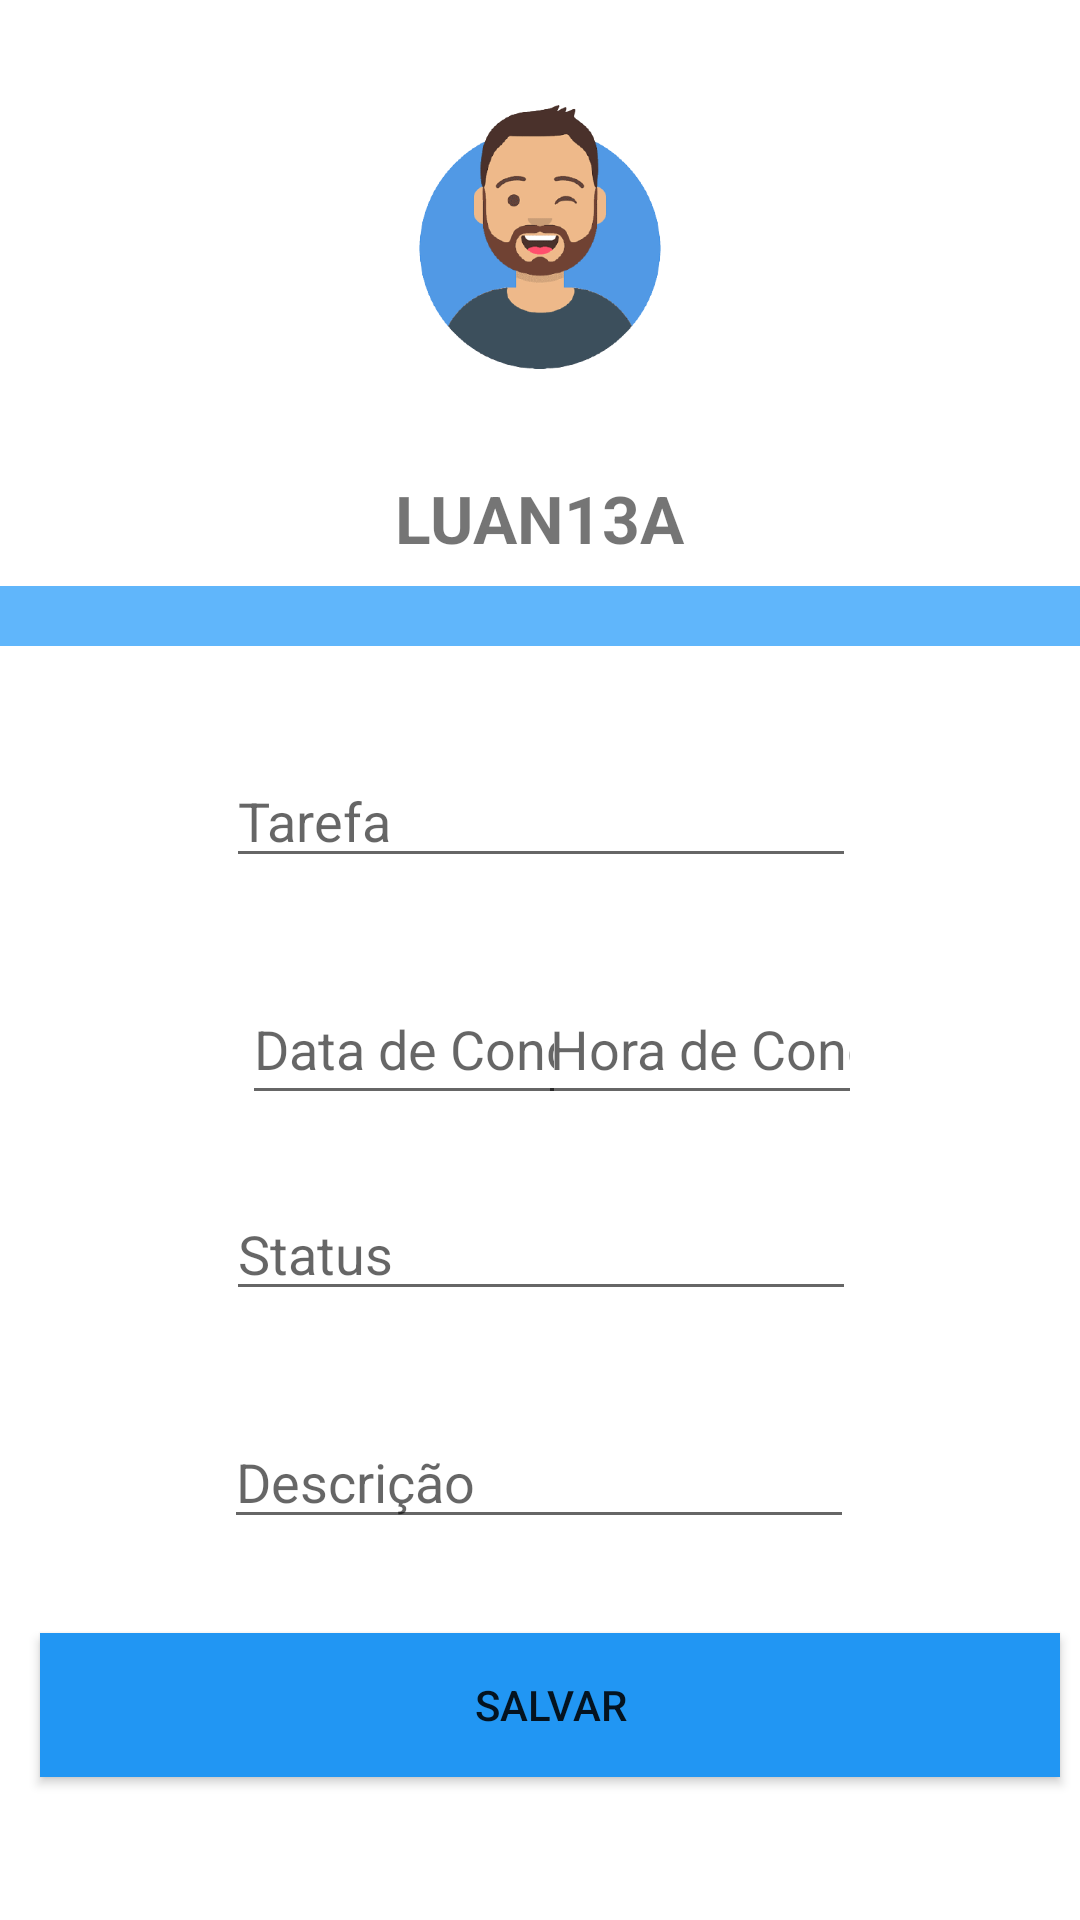

Screen size 1080px×1920px. Icon name, then its center in pixels as point (x, y):
perfilimagem: point (540, 237)
